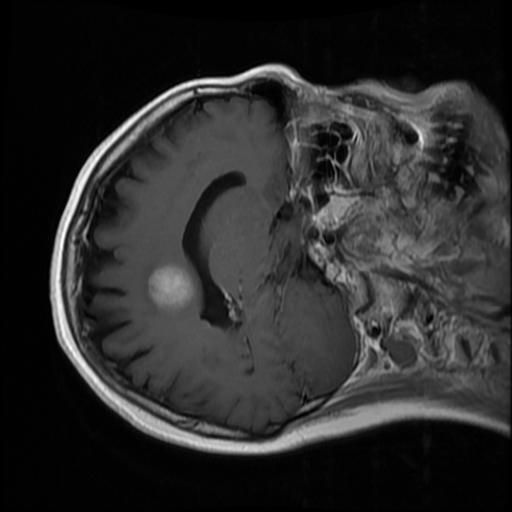meningioma: (146, 264, 194, 311)
